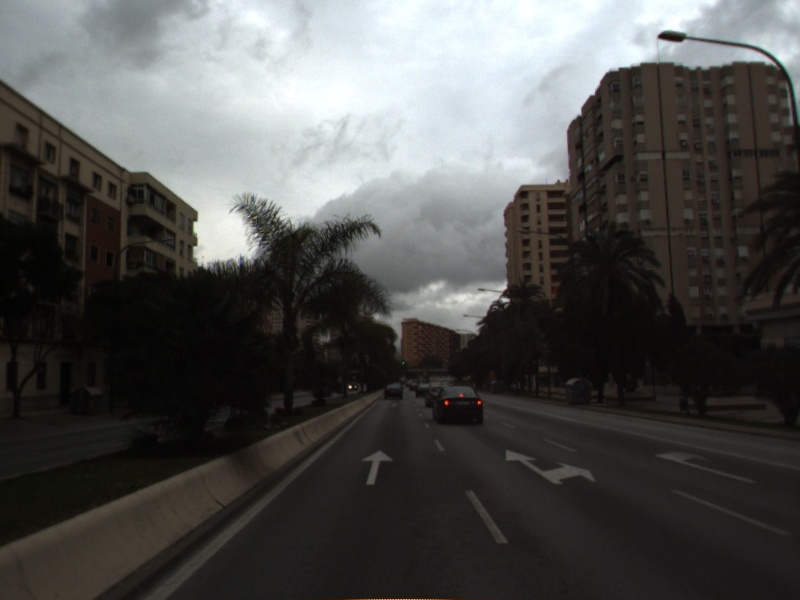RIGHT: (652, 448, 758, 485)
STRAIGHT: (359, 448, 395, 486)
STRAIGHT_RIGHT: (504, 448, 598, 487)
